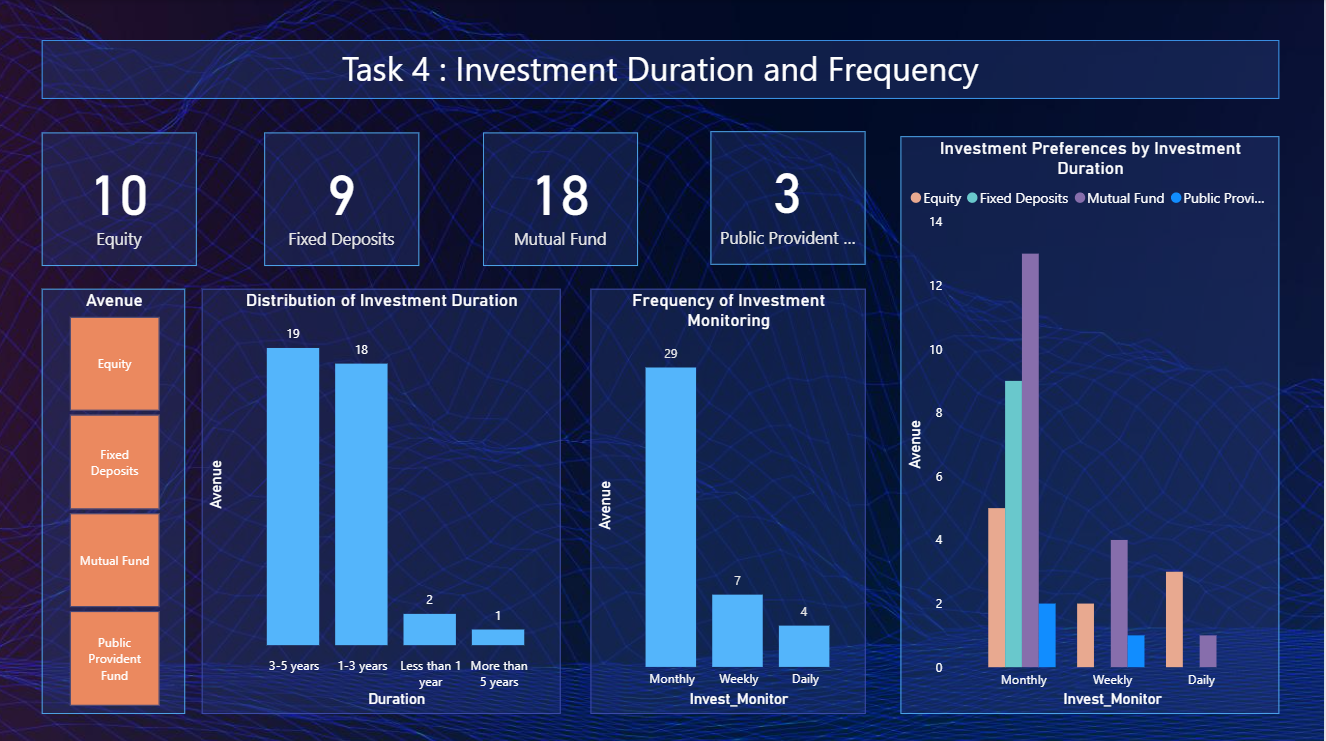

This screenshot's page, from the dashboard's own definition file:
{"tool":"powerbi","page":{"name":"Task 4","canvas":[1280,720],"ordinal":3},"visuals":[{"type":"textbox","box":[42.2,38.6,1194.4,56.7],"z":0},{"type":"clusteredColumnChart","title":"Distribution of Investment Duration ","fields":{"Category":["Data_set 2.Duration"],"Y":["CountNonNull(Data_set 2.Avenue)"]},"box":[196.4,278.4,346.2,410.2],"z":1000},{"type":"clusteredColumnChart","title":"Frequency of Investment Monitoring","fields":{"Category":["Data_set 2.Invest_Monitor"],"Y":["CountNonNull(Data_set 2.Avenue)"]},"box":[571.6,278.4,265.4,410.2],"z":2000},{"type":"clusteredColumnChart","title":" Investment Preferences by Investment Duration","fields":{"Category":["Data_set 2.Invest_Monitor"],"Series":["Data_set 2.Avenue"],"Y":["CountNonNull(Data_set 2.Avenue)"]},"box":[871.1,131.5,365.6,557.4],"z":3000},{"type":"slicer","title":"Avenue","fields":{"Values":["Data_set 2.Avenue"]},"box":[42.2,278.7,138.7,410.2],"z":4000},{"type":"card","fields":{"Values":["Data_set 2.Equity"]},"box":[42.2,127.9,149.6,129.1],"z":5000},{"type":"card","fields":{"Values":["Data_set 2.Fixed Deposits"]},"box":[257,127.9,149.6,129.1],"z":6000},{"type":"card","fields":{"Values":["Data_set 2.Mutual Fund"]},"box":[468.1,127.9,149.6,129.1],"z":7000},{"type":"card","fields":{"Values":["Data_set 2.Public Provident Fund"]},"box":[687.7,126.7,149.6,129.1],"z":8000}]}

Visuals, with their boxes in screenshot pixels (x1, y1, x2, y2), scaled from the page's 1280x720 canvas onto the 1326x741 screenshot:
textbox: <box>44,40,1281,98</box>
"Distribution of Investment Duration " clusteredColumnChart: <box>203,287,562,709</box>
"Frequency of Investment Monitoring" clusteredColumnChart: <box>592,287,867,709</box>
" Investment Preferences by Investment Duration" clusteredColumnChart: <box>902,135,1281,709</box>
"Avenue" slicer: <box>44,287,187,709</box>
card - Data_set 2.Equity: <box>44,132,199,264</box>
card - Data_set 2.Fixed Deposits: <box>266,132,421,264</box>
card - Data_set 2.Mutual Fund: <box>485,132,640,264</box>
card - Data_set 2.Public Provident Fund: <box>712,130,867,263</box>
